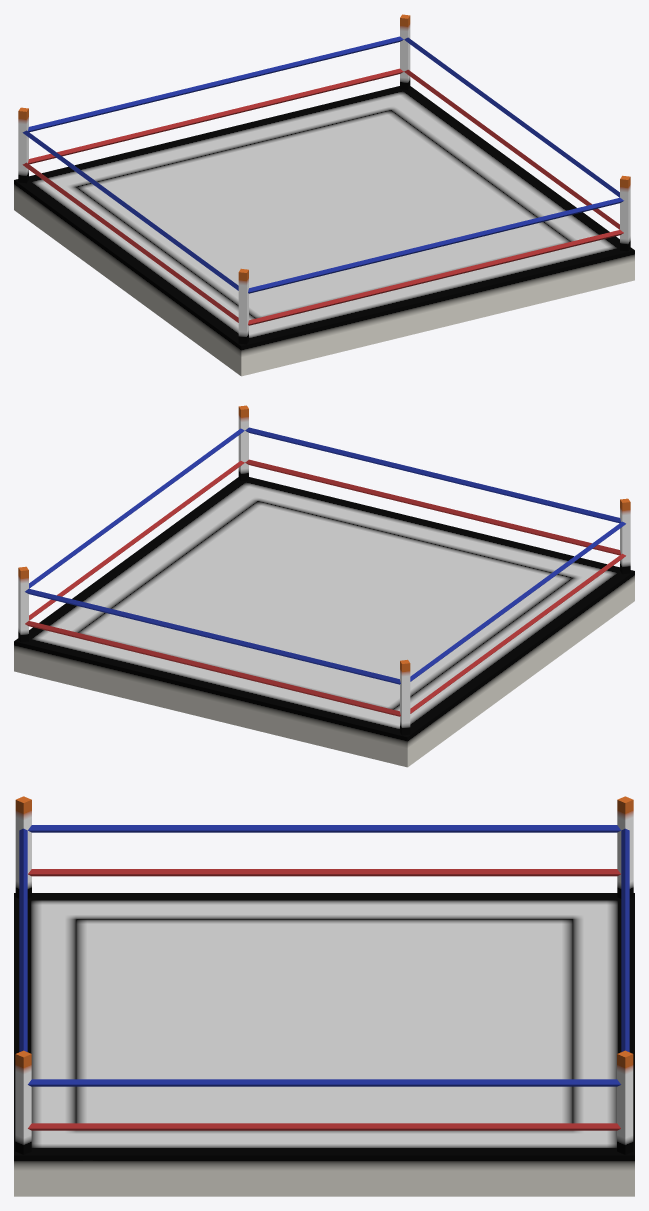
The model's file is BoxingRing.fbx.
3 renders of one model, top to bottom at view 1: azimuth 30°, elevation 25°; view 2: azimuth 150°, elevation 25°; view 3: azimuth 270°, elevation 25°, orthographic. The views are drawn at different scales.
Parts seen in each view (by area): view 1: Cube; view 2: Cube; view 3: Cube.
Boxes of the visible parts, x1,y1,x2,y2 form: Cube: (14,14,634,376); Cube: (14,405,634,767); Cube: (14,796,634,1196).
Size of the model in its own units: 2738 by 674 by 2738.
